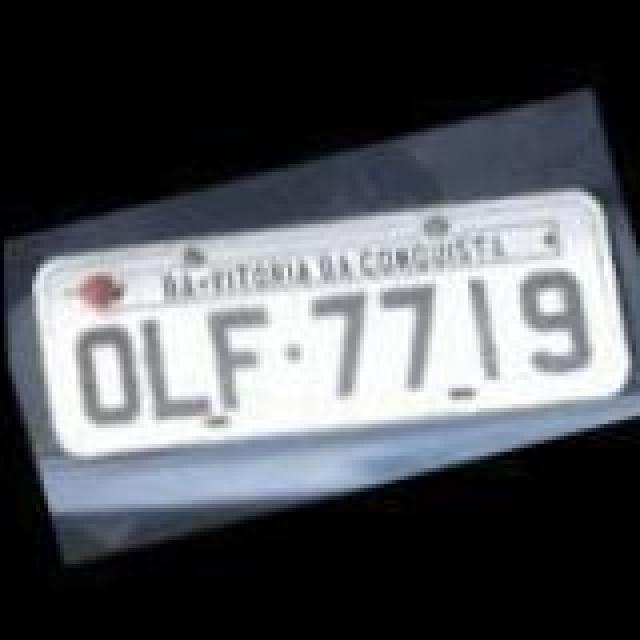1: (440, 258, 520, 390)
7: (288, 270, 392, 406), (362, 266, 462, 402)
9: (494, 246, 602, 386)
F: (184, 282, 288, 418)
L: (114, 292, 218, 432)
O: (52, 310, 152, 442)
